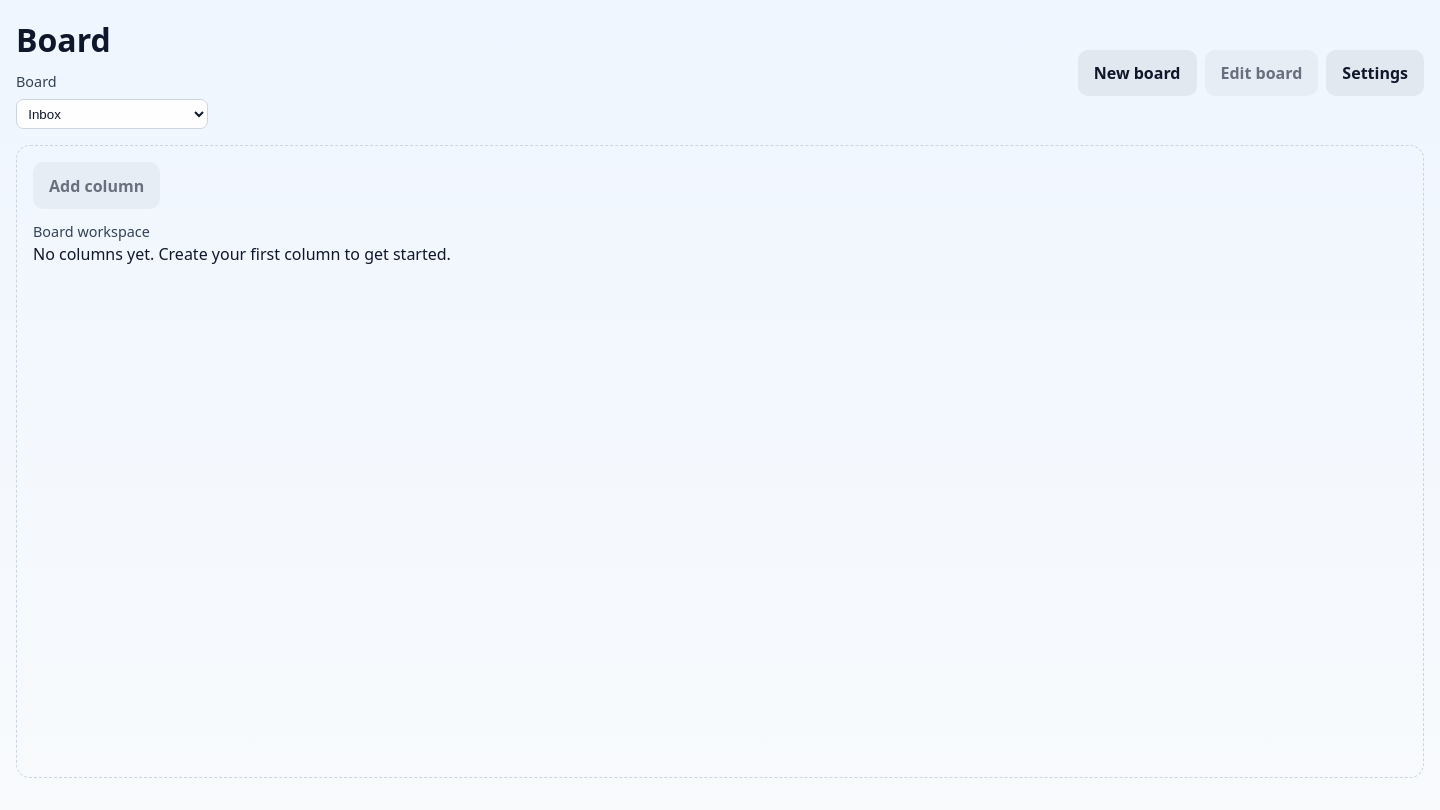
App › keeps latest board columns when board selection changes during in-flight loads
Select "Roadmap" in the dropdown with test id "app.boards.select" at (112, 114), box [16,99,208,129]
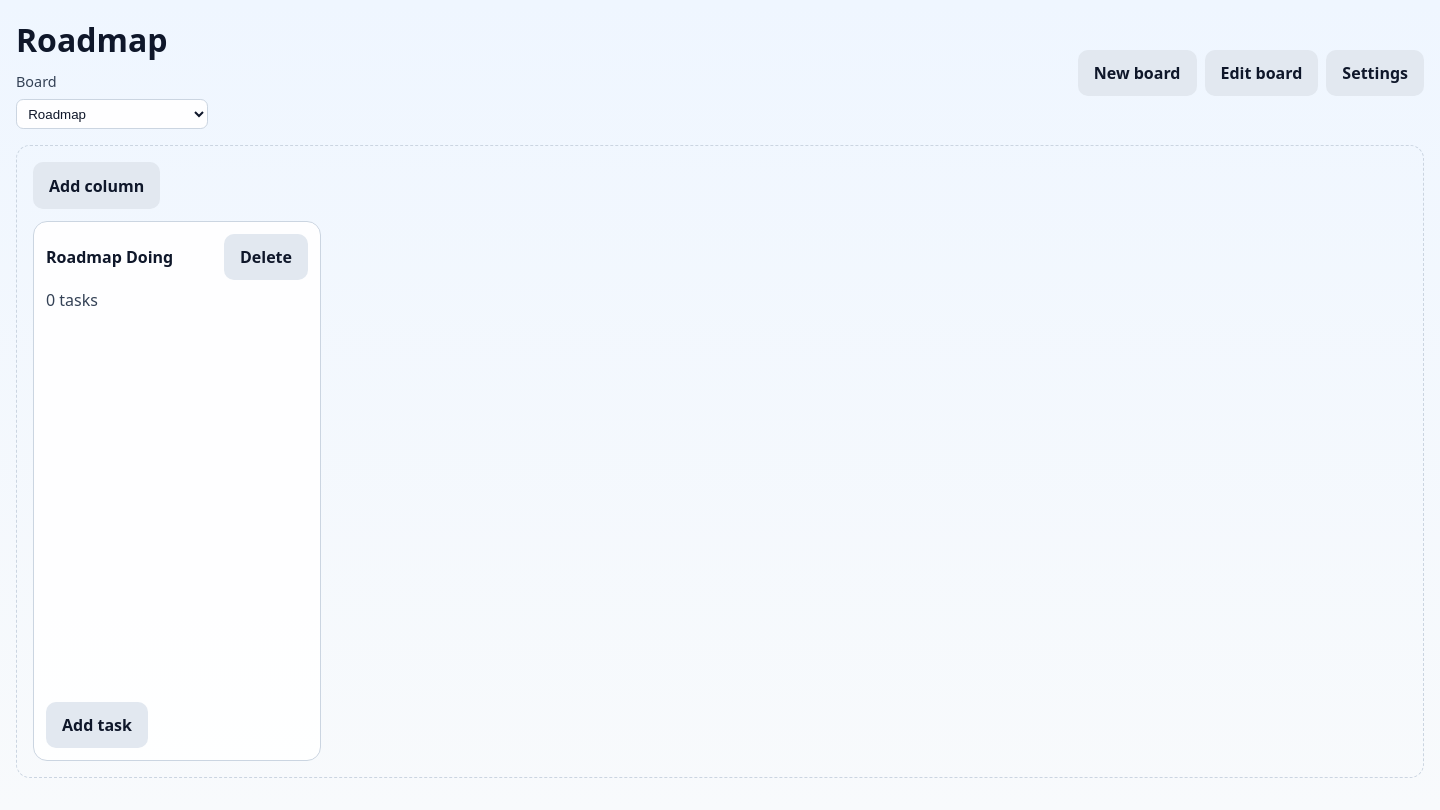
Check: the heading "Roadmap Doing" is shown, box [46,245,173,269]
